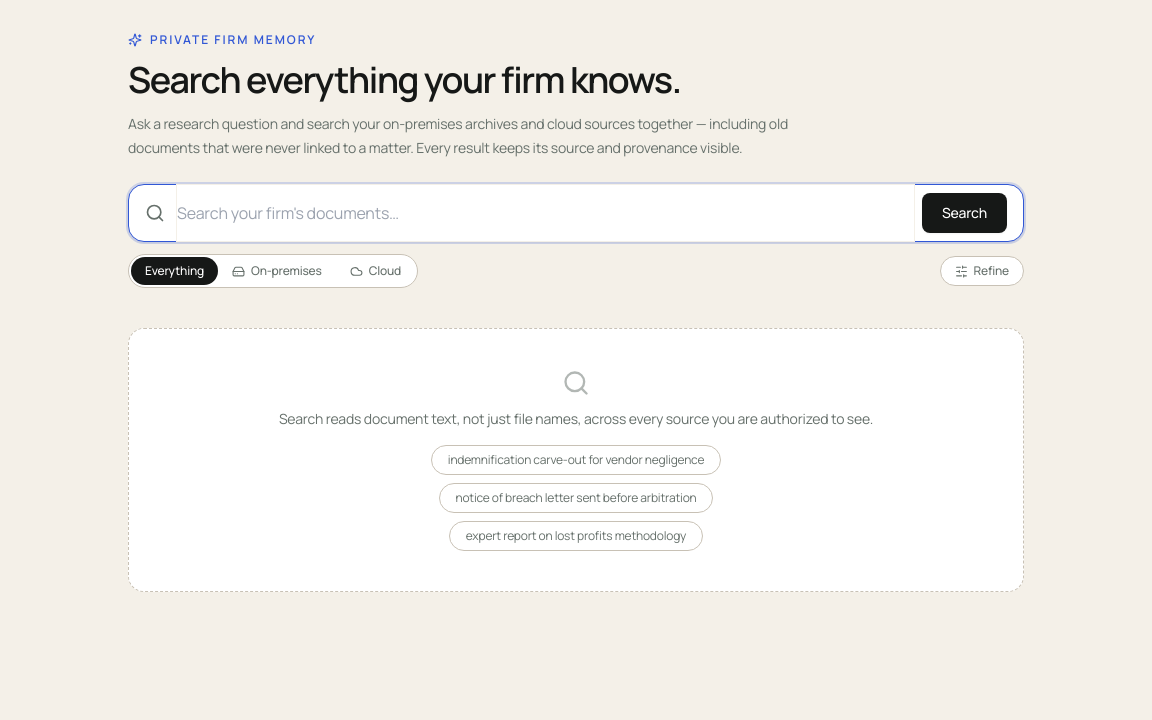
UnifiedFirmMemoryPage › shows unsupported coverage without collapsing it to a generic ready state
In the field named "Research query": (545, 213) [177,185,914,241], type "indemnity"
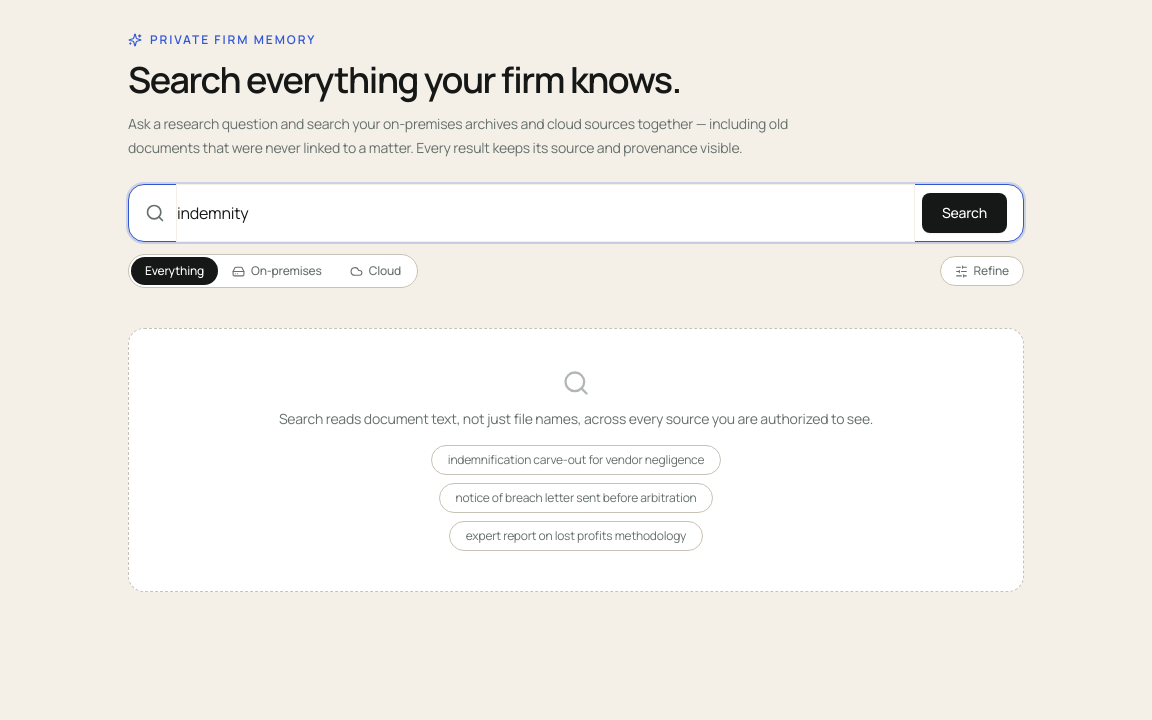
Click the button "Search": (964, 213) [922,193,1007,233]
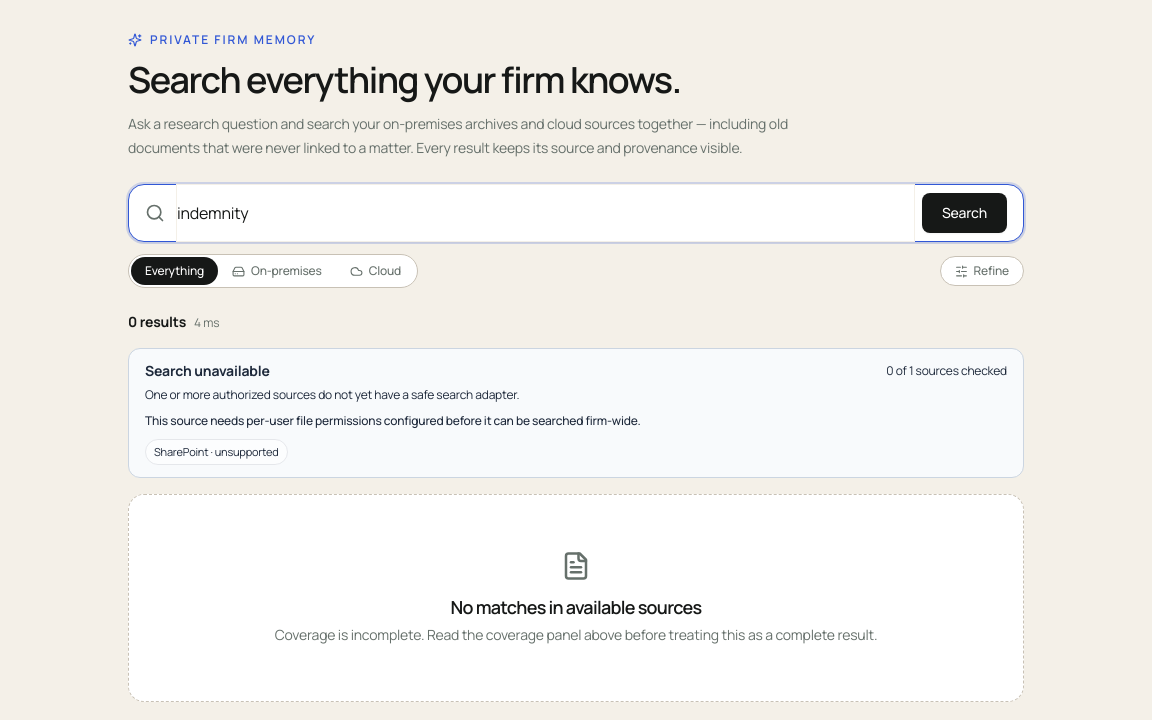
Now the text "Search unavailable" is shown, box [145,361,270,381]
Now the heading "No matches in available sources" is shown, box [450,595,701,619]
